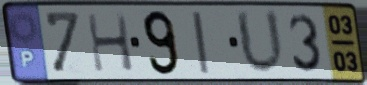3: (286, 11, 323, 74)
7: (42, 9, 85, 77)
9: (140, 8, 182, 78)
H: (84, 11, 137, 74)
I: (188, 9, 212, 76)
U: (233, 8, 288, 78)
